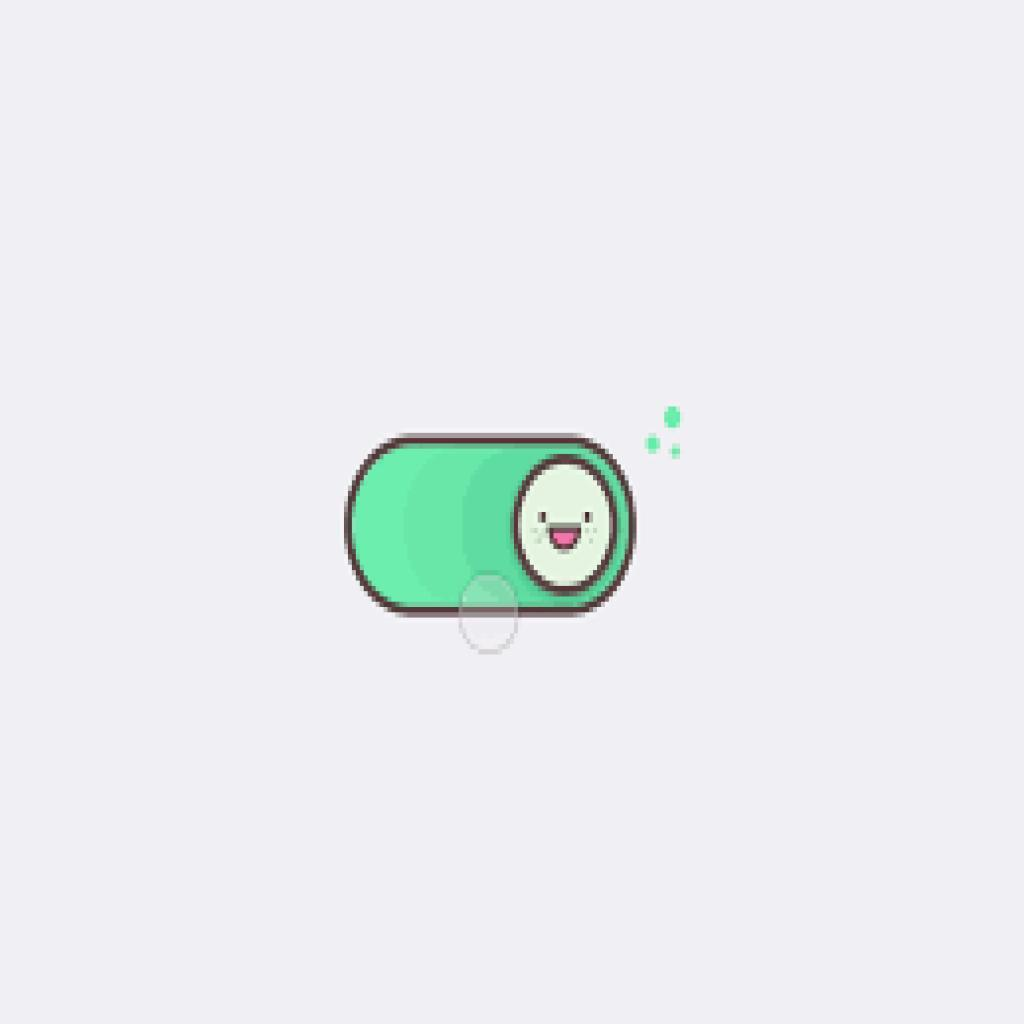switch: (348, 435, 634, 618)
